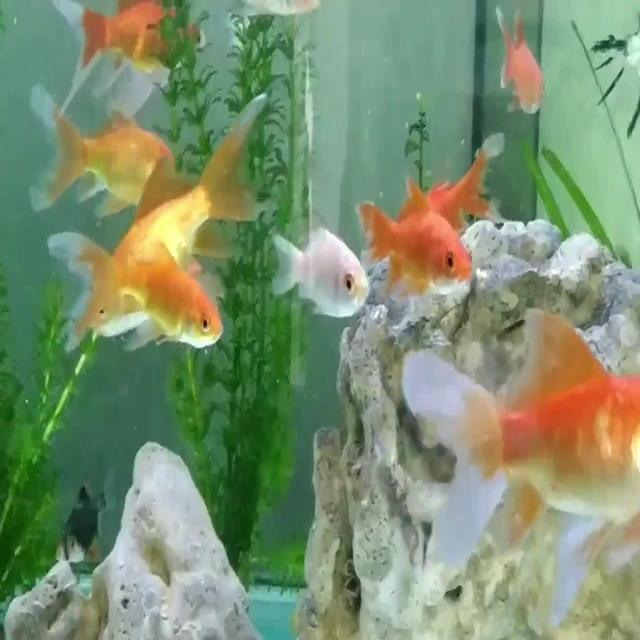GoldFish: (389, 301, 640, 625), (45, 218, 231, 362), (346, 173, 480, 307), (37, 83, 175, 210), (490, 0, 554, 121)
